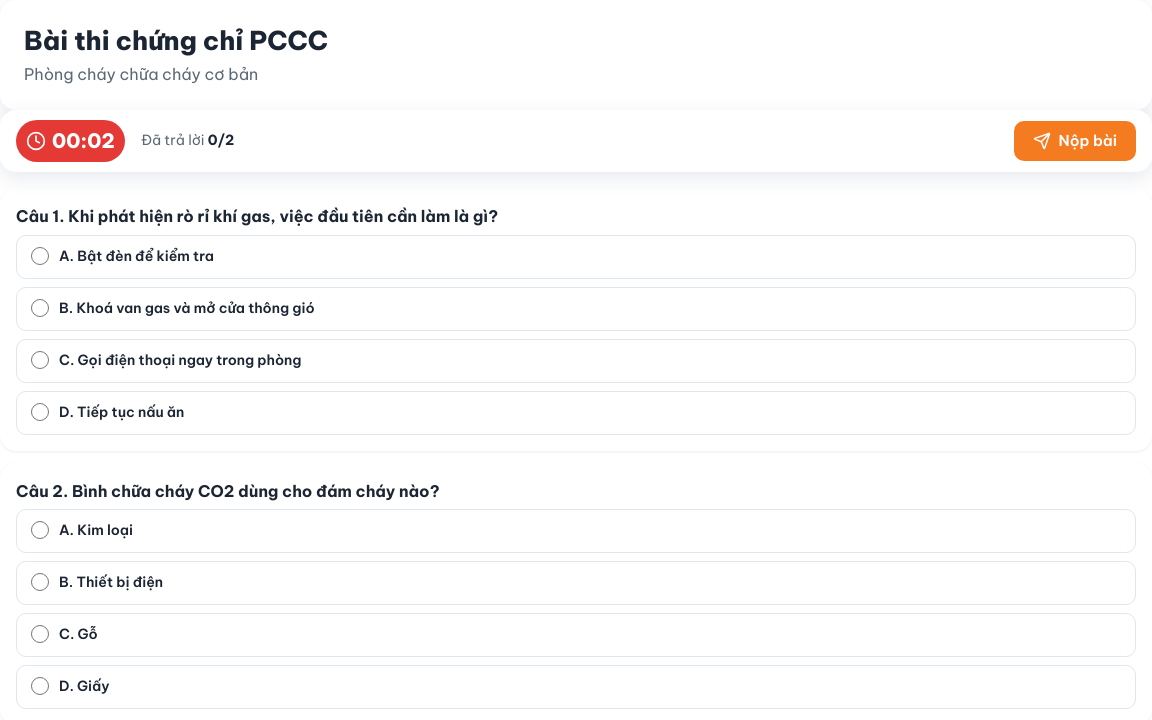
Test: ExamPage (làm bài thi chứng chỉ) › submits by itself when the time is up
The width and height of the screenshot is (1152, 720).
Click the radio button labelled "B. Thiết bị điện" at [40, 582], box [31, 573, 49, 591]
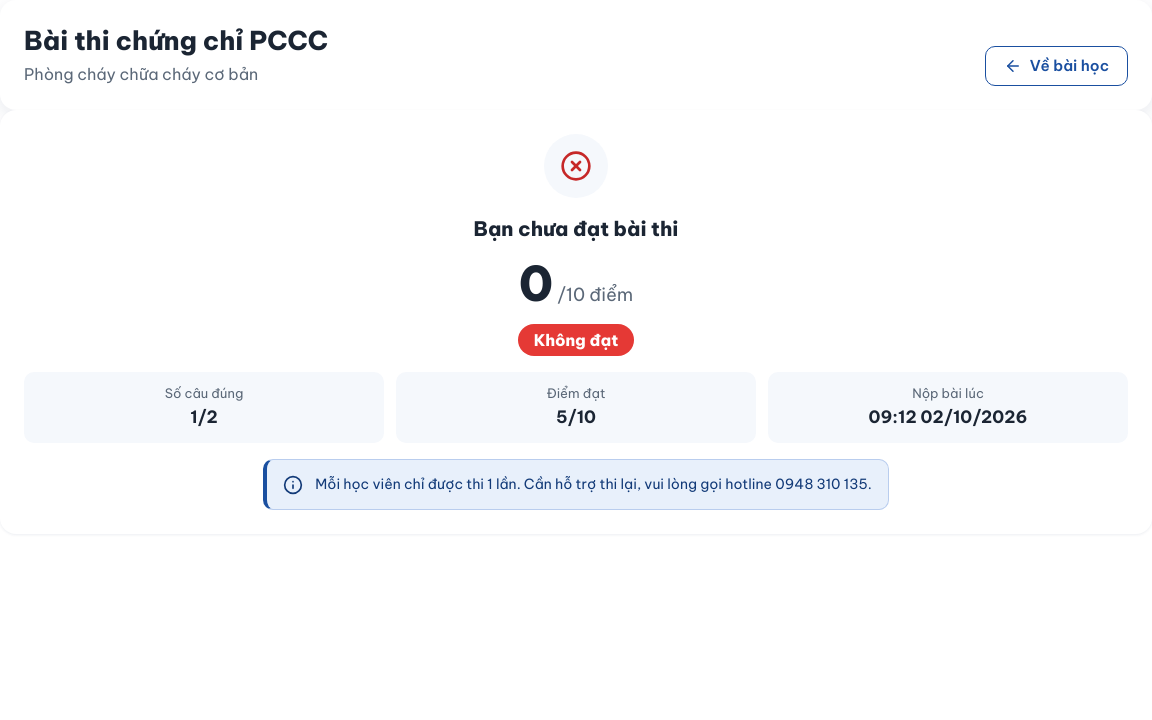
expect the heading "Bạn chưa đạt bài thi" is shown: met, box [474, 214, 678, 244]
expect the text "Mỗi học viên chỉ được thi 1 lần" is shown: met, box [315, 475, 772, 493]
